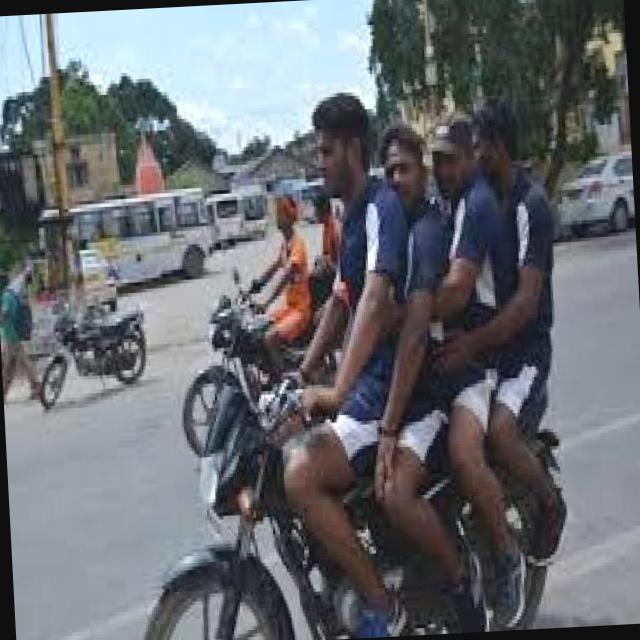motorcycle: (119, 345, 575, 640)
person: (268, 84, 418, 510), (452, 93, 580, 520), (400, 106, 536, 492), (349, 106, 456, 477)
rider_region: (117, 69, 585, 640)
